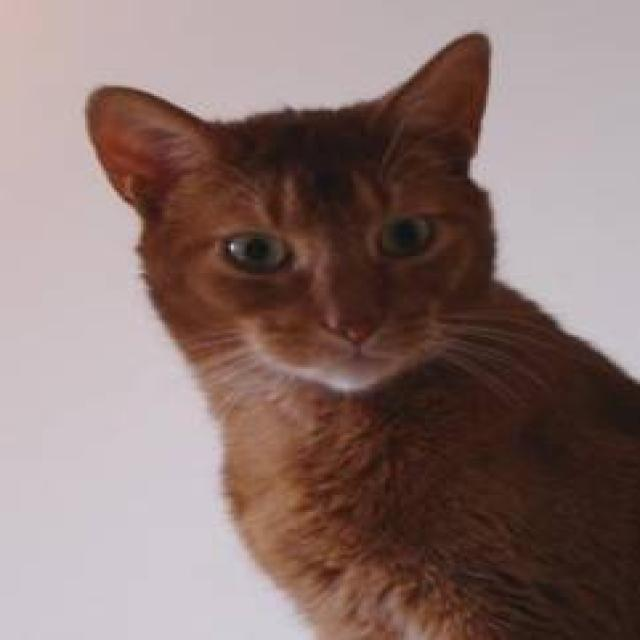Abyssinian: (79, 30, 509, 398)
